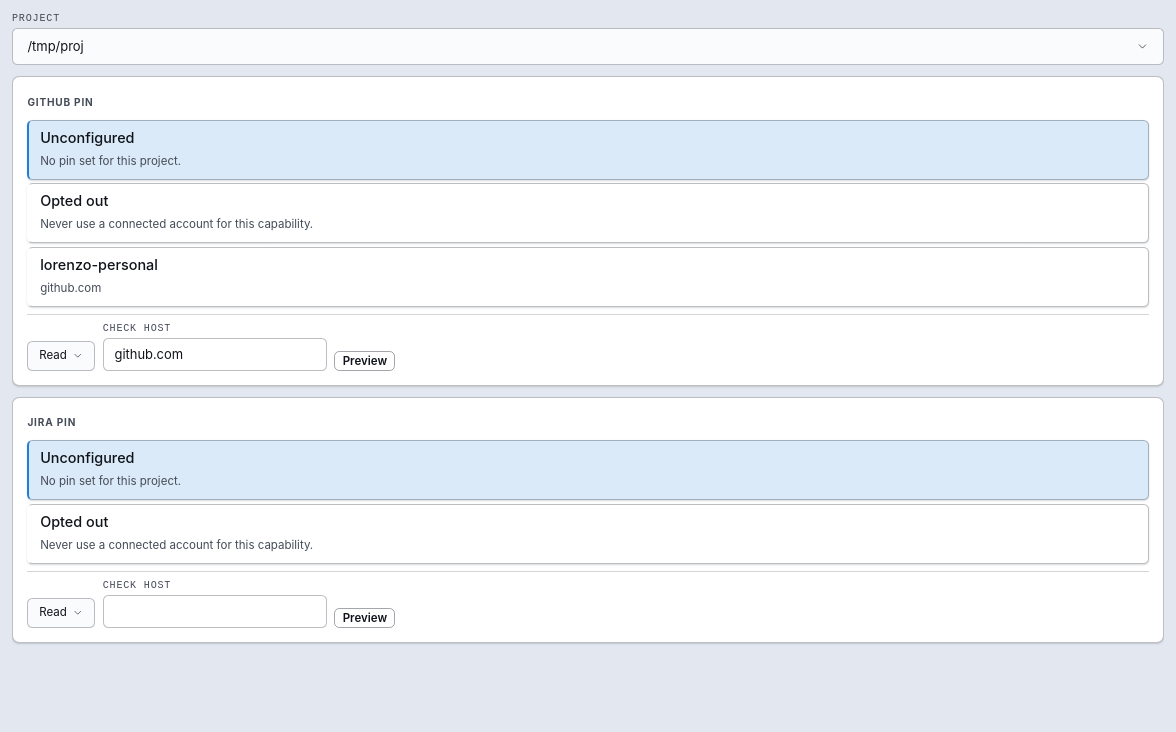
AccountPinPicker resolution preview — five distinct error states (issue #230 acceptance) › none renders "nothing to use", not an error
Click the button with test id "account-pin-preview-run-github" at (365, 361), box x1=334 y1=351 x2=395 y2=371
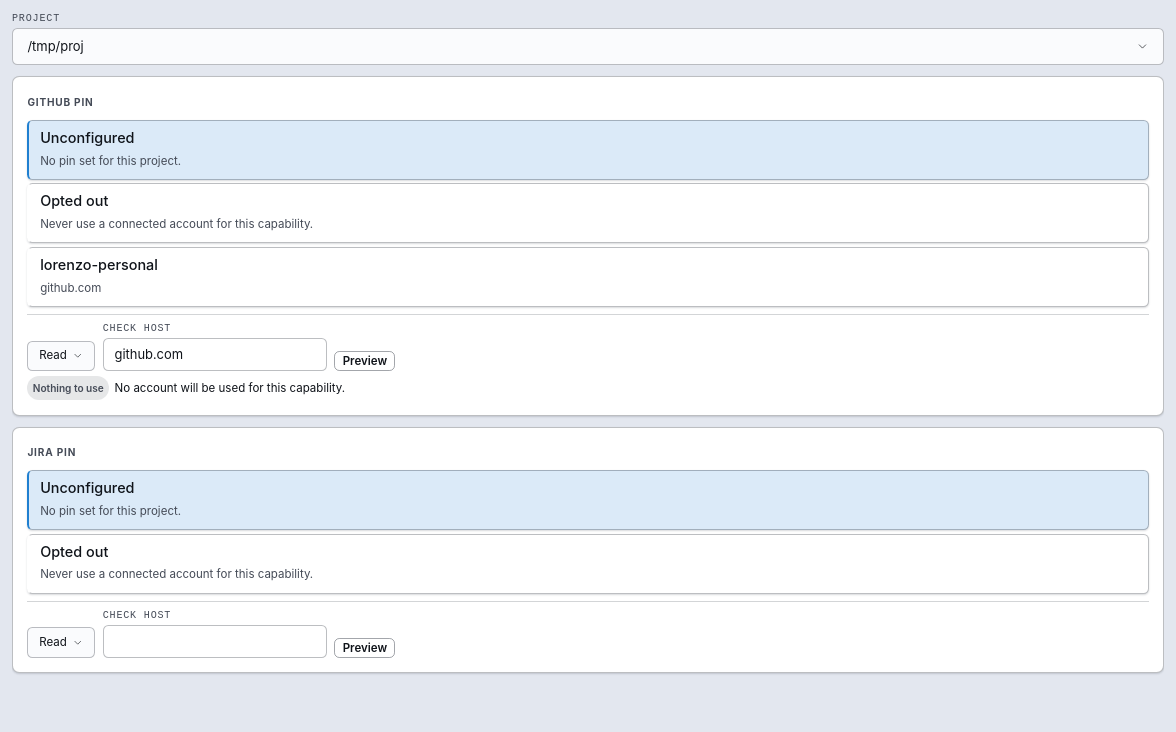
expect the element with test id "account-pin-preview-github" is shown: met, box x1=27 y1=314 x2=1149 y2=400
expect the element with test id "account-pin-preview-none-github" is shown: met, box x1=27 y1=376 x2=345 y2=400
